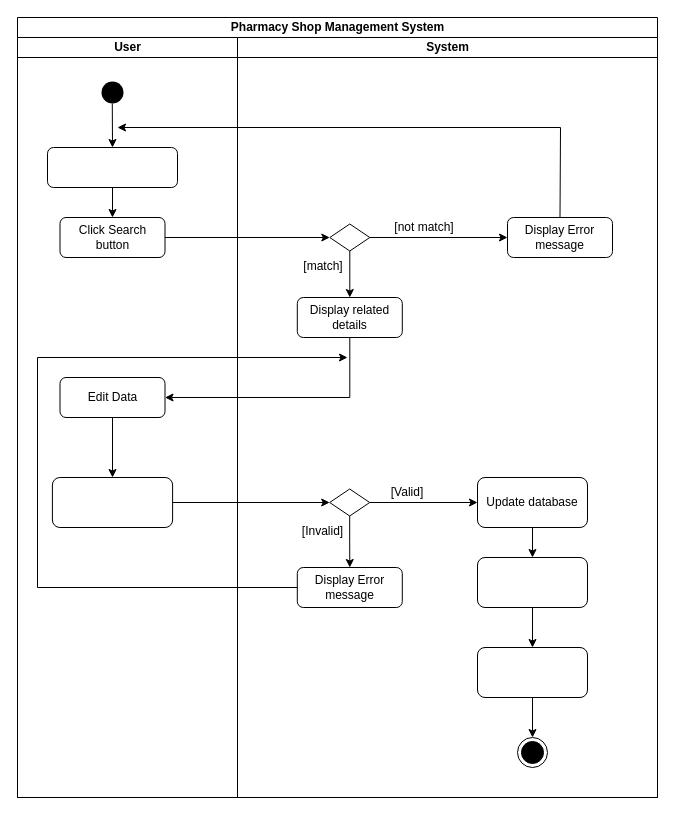
Some shapes in this 675 by 815 pixel diagram are drawn without their labels. Each missing label, with the centre of its shape:
"Click Update button" belongs at point (112, 502).
"Display again information & option page" belongs at point (532, 672).
"Display Updated successfully" belongs at point (532, 582).
"Enter search term into search bar" belongs at point (112, 167).
